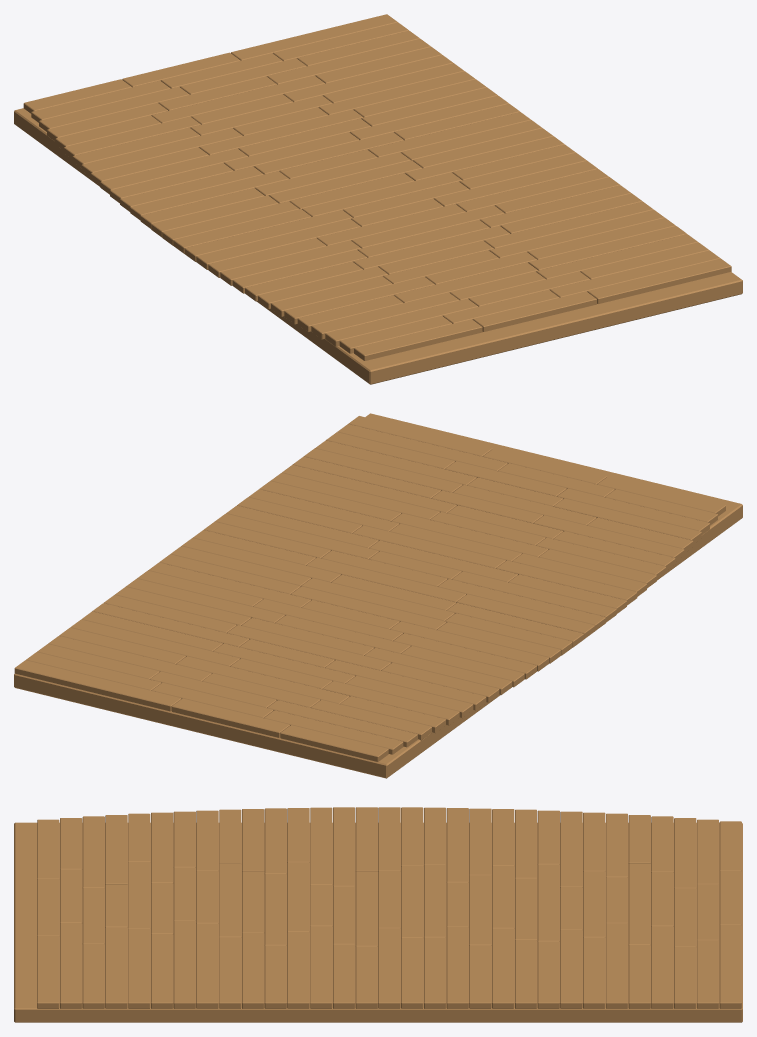
The model's file is SM_Menu_StageDeck.fbx.
3 renders of one model, top to bottom at view 1: azimuth 30°, elevation 25°; view 2: azimuth 150°, elevation 25°; view 3: azimuth 270°, elevation 25°, orthographic. The views are drawn at different scales.
Parts seen in each view (by area): view 1: SM_Menu_StageDeck; view 2: SM_Menu_StageDeck; view 3: SM_Menu_StageDeck.
Part boxes in pixels (left/top/right/bottom): SM_Menu_StageDeck: left=14, top=14, right=742, bottom=384; SM_Menu_StageDeck: left=14, top=413, right=742, bottom=778; SM_Menu_StageDeck: left=14, top=807, right=742, bottom=1022.
Bounding box in the file's own units: 735 × 1157 × 36.08.
